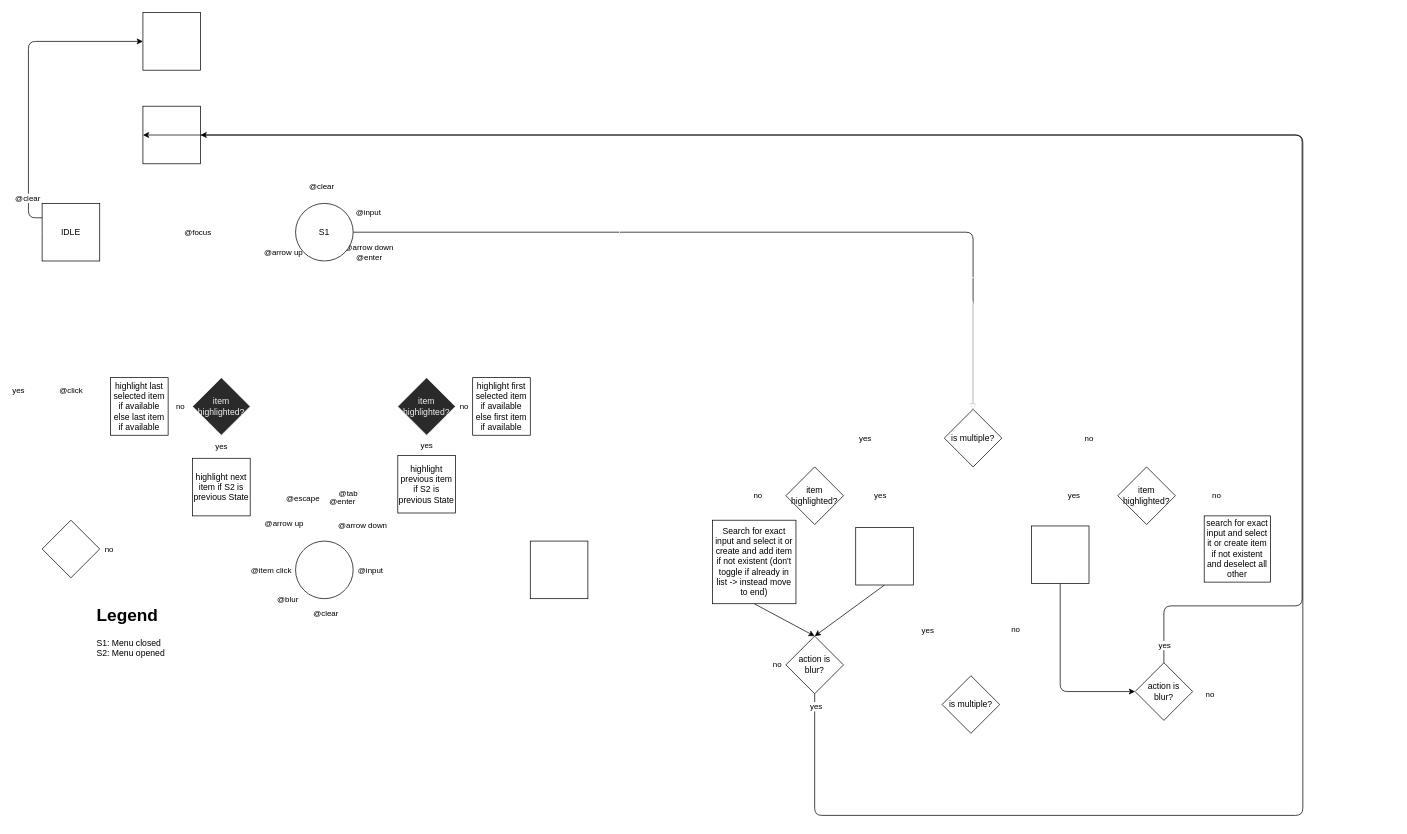
The diagram is 1407 pixels wide and 834 high, and some of its shapes have lost their labels. The centre of each missing label's shape, as x and y in pixels:
filter items & clear highlighted item: point (559, 569)
is disabled?: point (70, 548)
Reset everything but not selected items: point (171, 134)
Reset everything if clearable and not disabled: point (171, 41)
S2: point (324, 569)
select highlighted item: point (1060, 554)
toggle highlighted item: point (884, 556)
